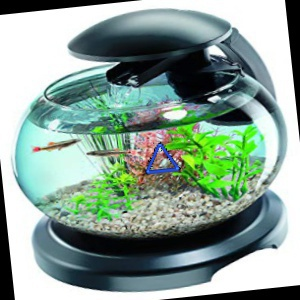triangle: (143, 141, 184, 174)
